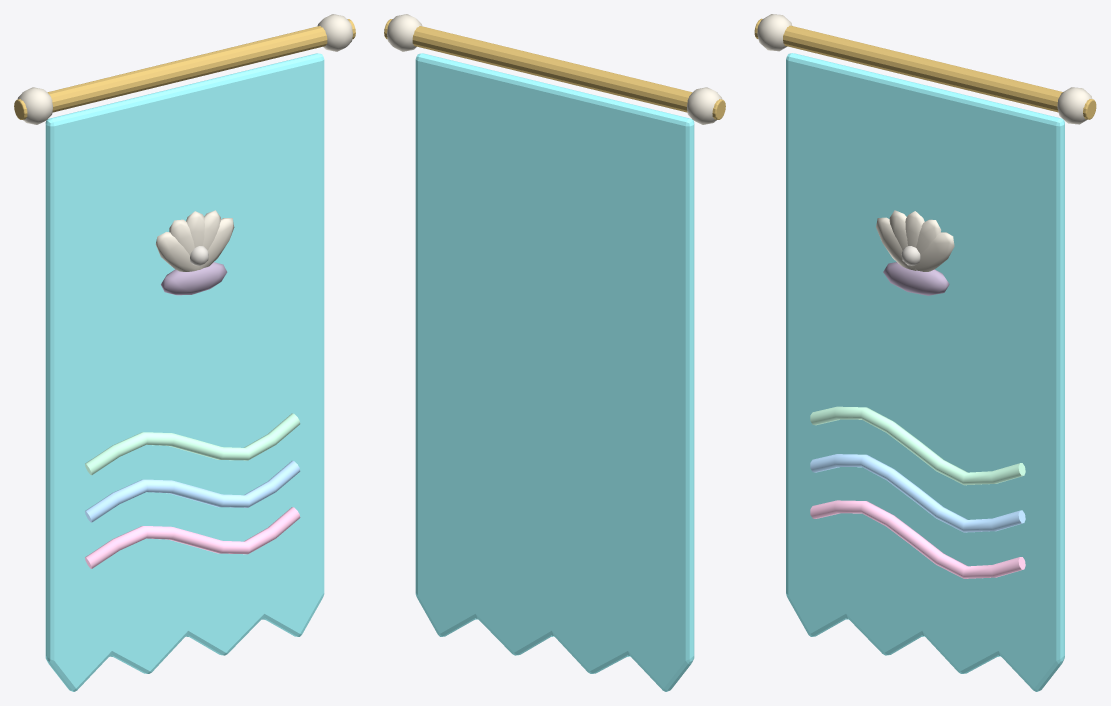
Rendered from pearl_shell_banner_b.glb.
3 views of the same model, side by side, from view 1: azimuth 30°, elevation 25°; view 2: azimuth 150°, elevation 25°; view 3: azimuth 330°, elevation 25° (orthographic).
Visible parts, largest first — view 1: pearl_shell_banner_b.001; view 2: pearl_shell_banner_b.001; view 3: pearl_shell_banner_b.001.
Boxes of the visible parts, bbox=[...] form: pearl_shell_banner_b.001: bbox=[14, 14, 355, 691]; pearl_shell_banner_b.001: bbox=[384, 14, 725, 691]; pearl_shell_banner_b.001: bbox=[754, 14, 1096, 691].
Size of the model in its own units: 7.2 by 12.68 by 1.07.
